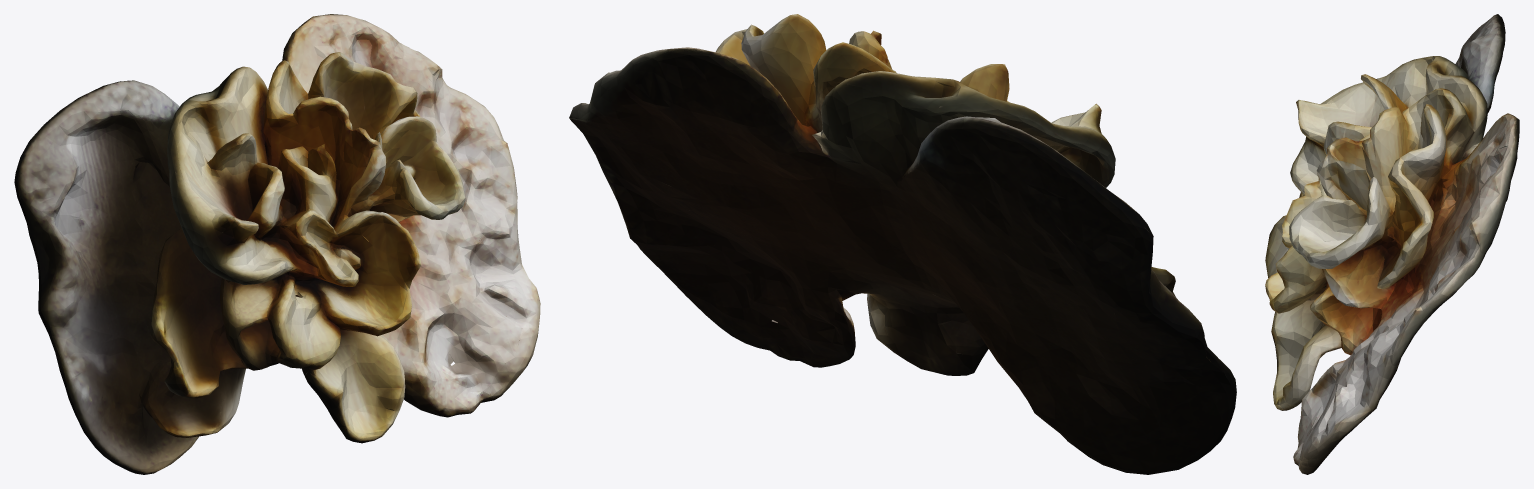
The model's file is porcelain-handmade-wall-hanging-rustic.jpeg.glb.
3 renders of one model, left to right at view 1: azimuth 30°, elevation 25°; view 2: azimuth 150°, elevation 25°; view 3: azimuth 270°, elevation 25°, orthographic. The views are drawn at different scales.
Visible parts, largest first — view 1: world; view 2: world; view 3: world.
Part boxes in pixels (x1,y1,x2,y2): world: (14,14,540,474); world: (569,14,1236,474); world: (1265,14,1519,474).
Bounding box in the file's own units: 0.9999 × 0.6728 × 0.4726.
1 material, 1 textured.
